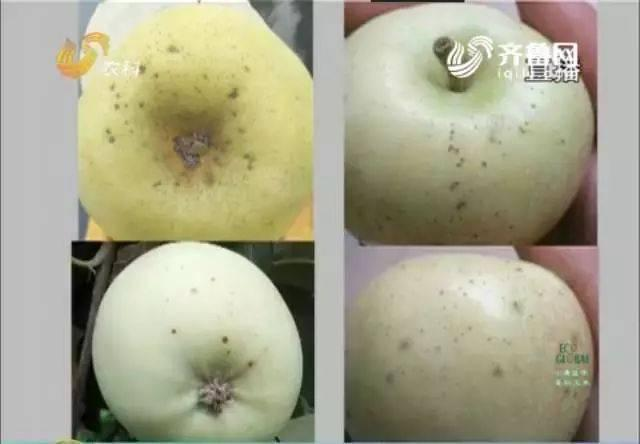apple: (357, 3, 609, 246), (70, 0, 316, 247), (358, 254, 609, 442), (87, 247, 309, 443)
